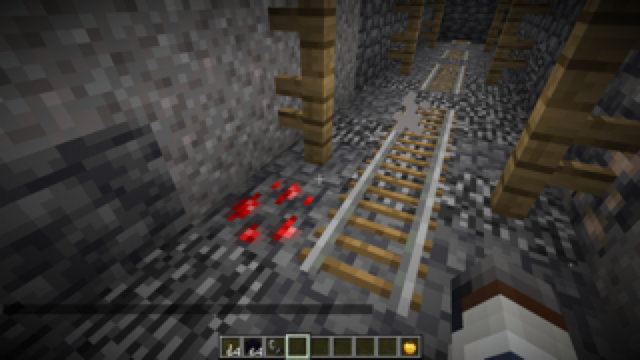iron: (555, 109, 640, 251)
redstone: (203, 170, 341, 259)
